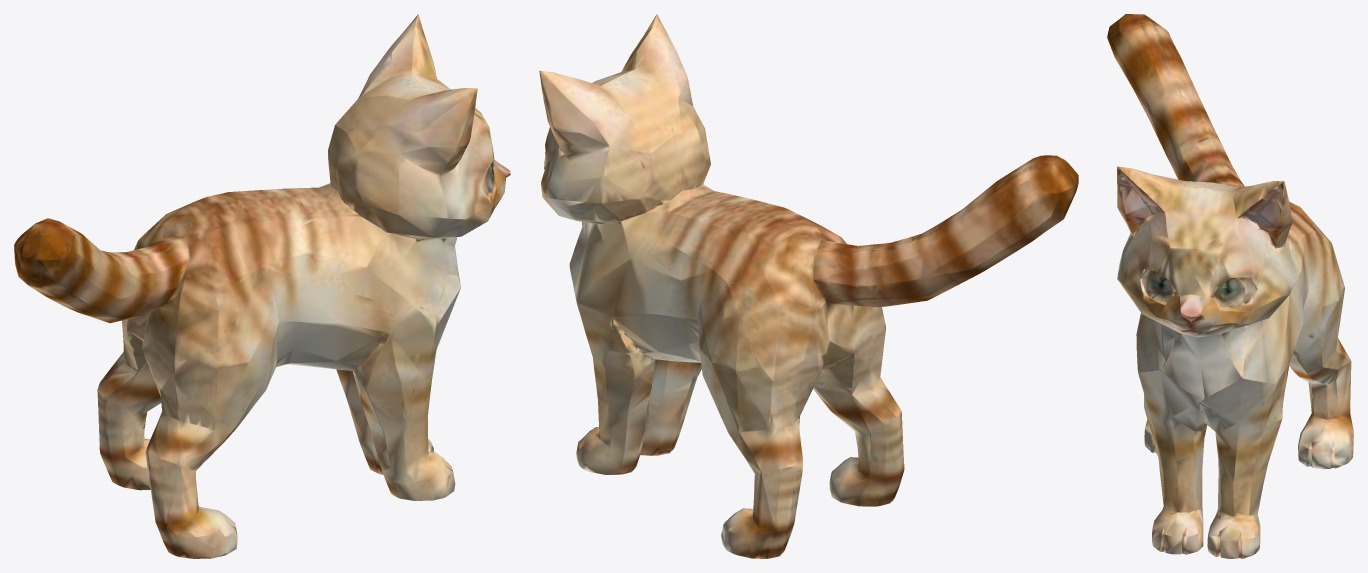
File: CASENAP-lo.glb
The picture shows the model from 3 angles, left to right: view 1: azimuth 30°, elevation 25°; view 2: azimuth 150°, elevation 25°; view 3: azimuth 270°, elevation 25°; orthographic projection. The views are drawn at different scales.
Parts seen in each view (by area): view 1: fit; view 2: fit; view 3: fit.
Part boxes in pixels (bbox=[...]): fit: bbox=[14, 14, 510, 558]; fit: bbox=[539, 14, 1078, 558]; fit: bbox=[1107, 14, 1353, 558].
Bounding box in the file's own units: 1.29 × 1 × 0.5799.
Materials: 1 (1 with a texture image).
